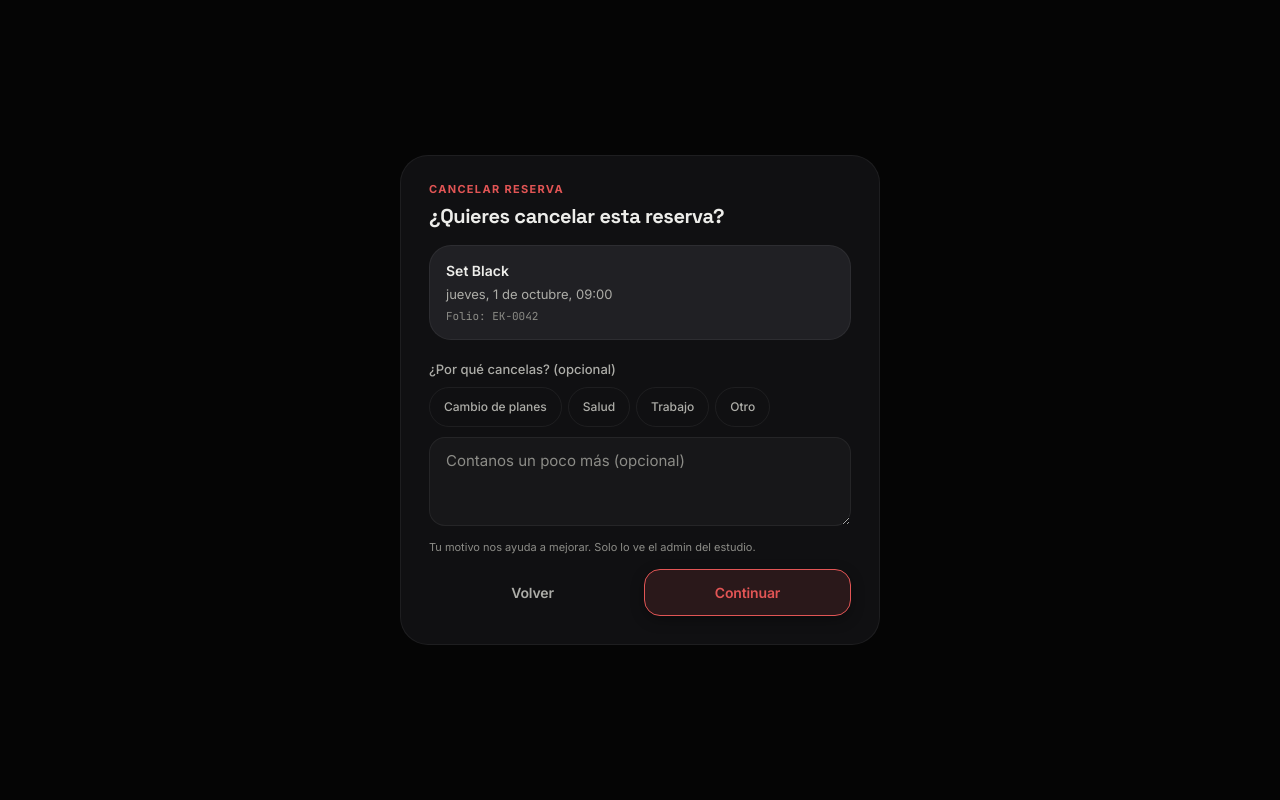
Test: CancelarMiReservaModal · invitados extra pagados (M16) › singular con un solo invitado
Click the button "Continuar" at (748,593), box x1=644 y1=569 x2=851 y2=616
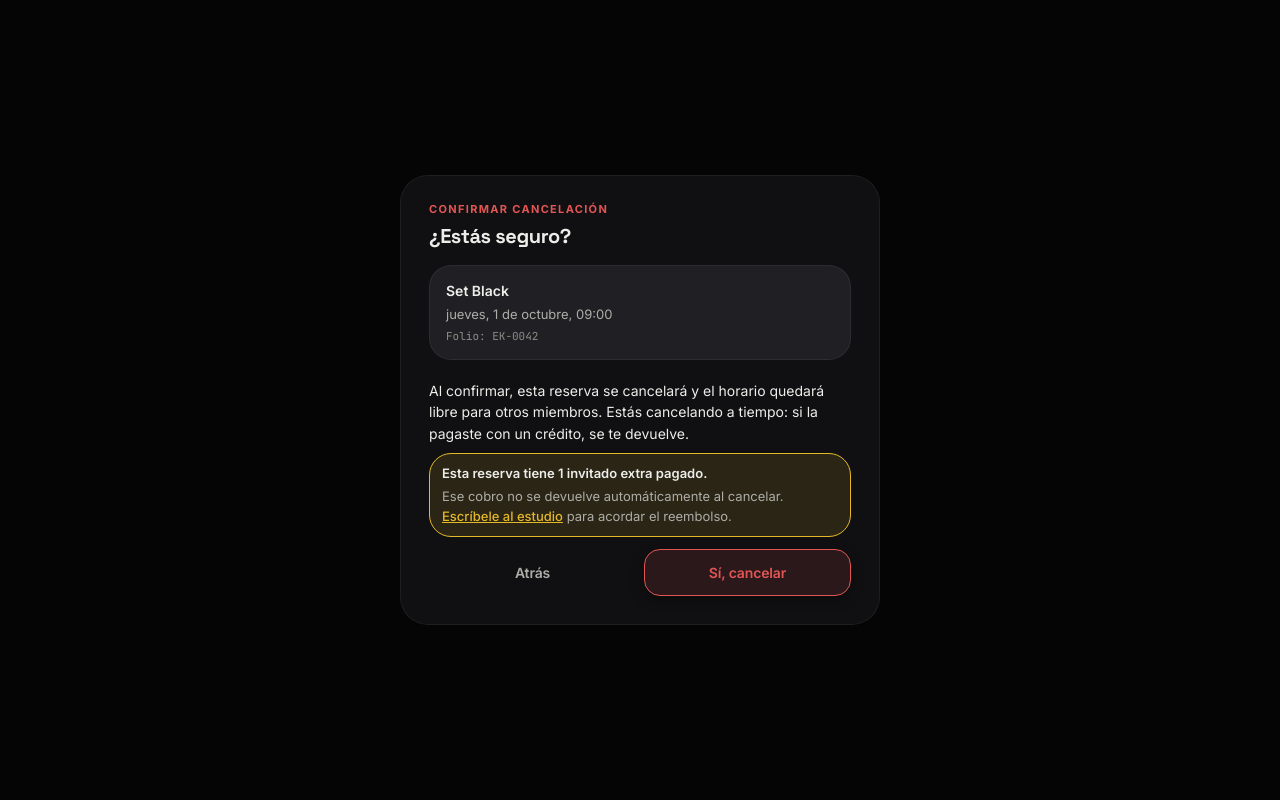
Expected: the element that starts with "Esta reserva tiene" shows "1 invitado extra pagado", x1=429 y1=453 x2=851 y2=537
